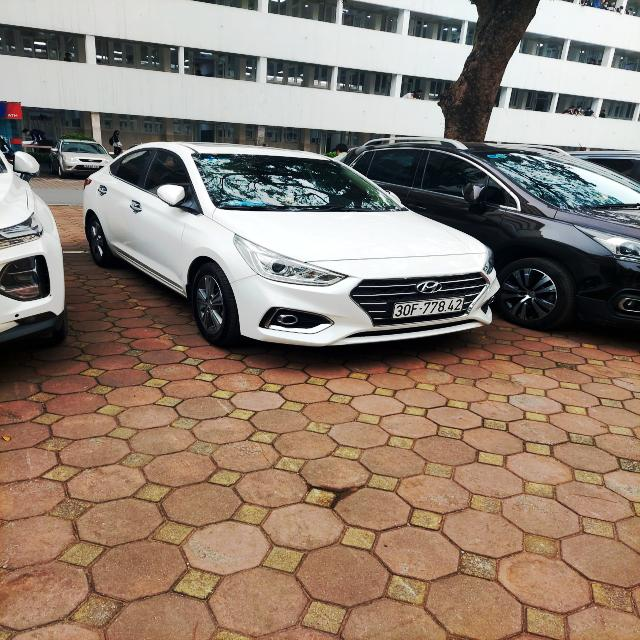license_plate: (395, 298, 466, 320)
